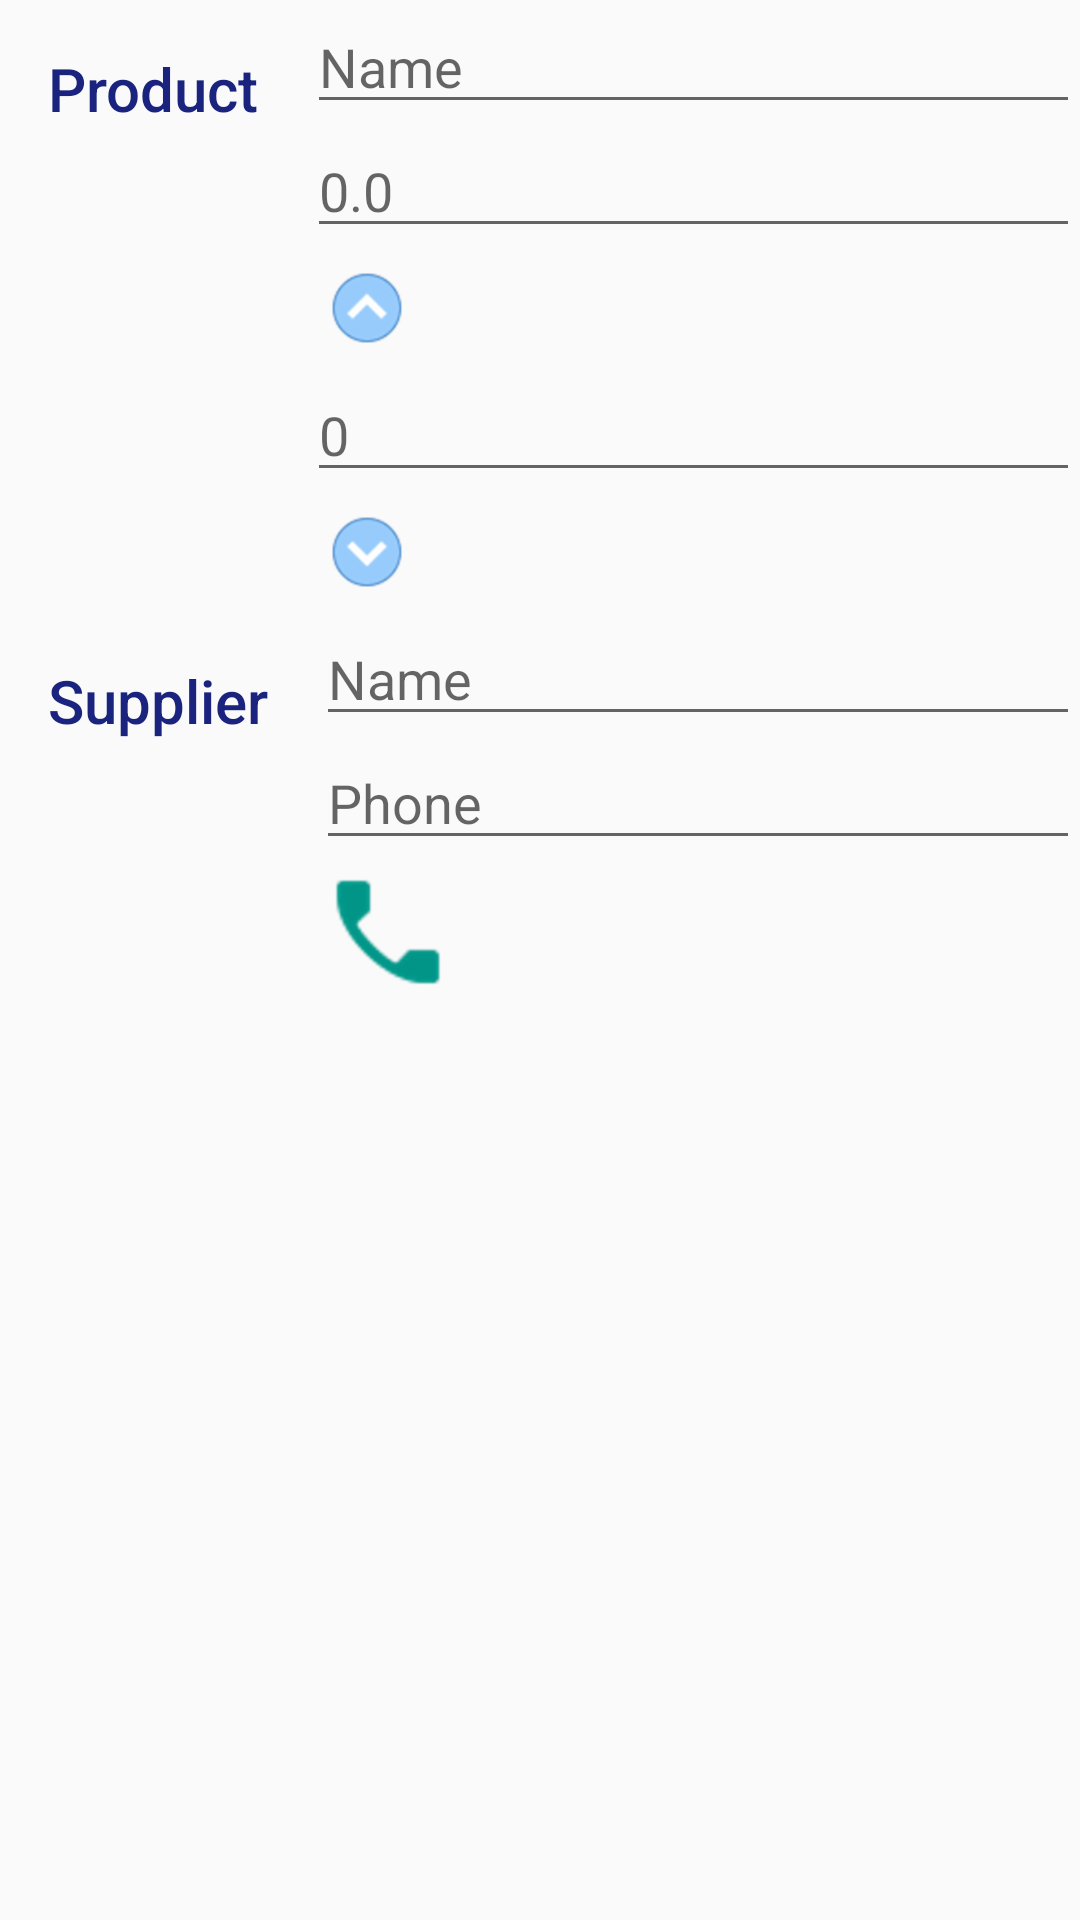

Named icons in this screenshot (1080 × 1920) and their centers, [x,y]:
down: [367,552]
